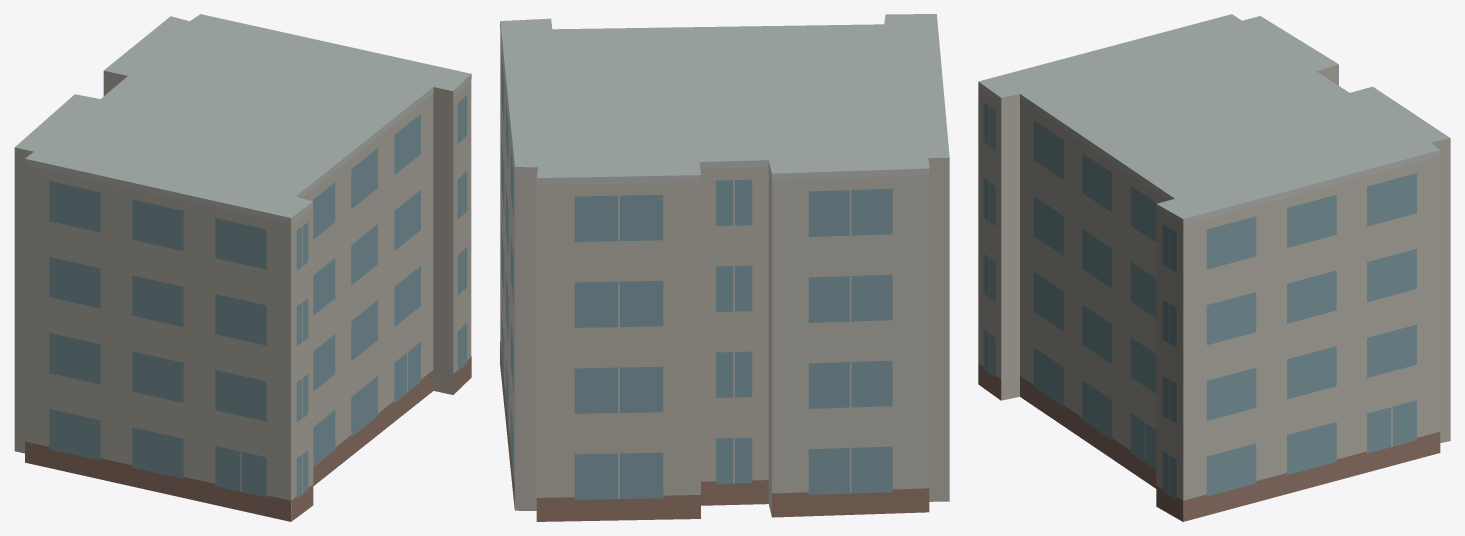
The model's file is survey-upis-32673319.glb.
The picture shows the model from 3 angles, left to right: view 1: azimuth 30°, elevation 25°; view 2: azimuth 150°, elevation 25°; view 3: azimuth 270°, elevation 25°; orthographic projection. The views are drawn at different scales.
Visible parts, largest first — view 1: survey-upis-32673319.tmp; view 2: survey-upis-32673319.tmp; view 3: survey-upis-32673319.tmp.
Part boxes in pixels (bbox=[...]): survey-upis-32673319.tmp: bbox=[14, 14, 471, 521]; survey-upis-32673319.tmp: bbox=[500, 14, 949, 521]; survey-upis-32673319.tmp: bbox=[978, 14, 1450, 521].
Size of the model in its own units: 17.73 by 12.2 by 17.26.
